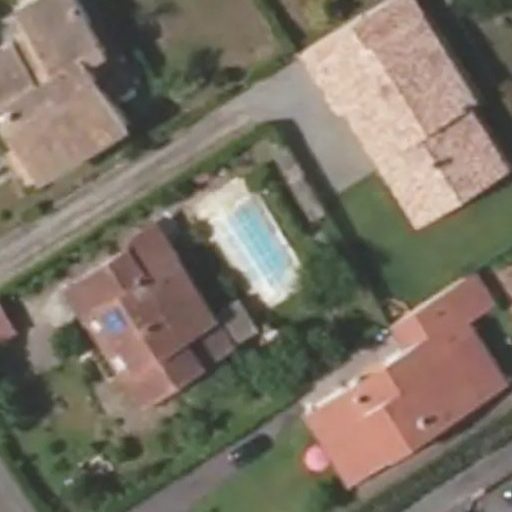pool: (217, 220, 300, 272)
